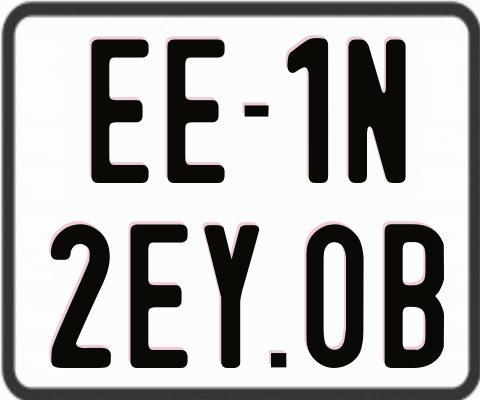0: (303, 223, 363, 368)
1: (285, 37, 326, 183)
2: (51, 223, 113, 372)
B: (382, 223, 445, 368)
E: (164, 37, 227, 186), (127, 222, 190, 367), (91, 38, 152, 185)
N: (347, 38, 405, 184)
Y: (202, 224, 261, 367)
